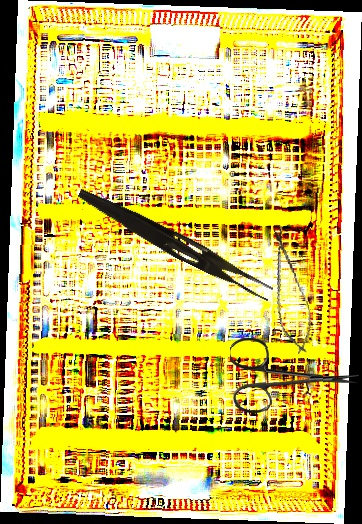Dressing Forceps: (72, 185, 278, 303)
Iris Scissors: (229, 337, 360, 416)
Micro Scissor: (260, 223, 319, 358)
